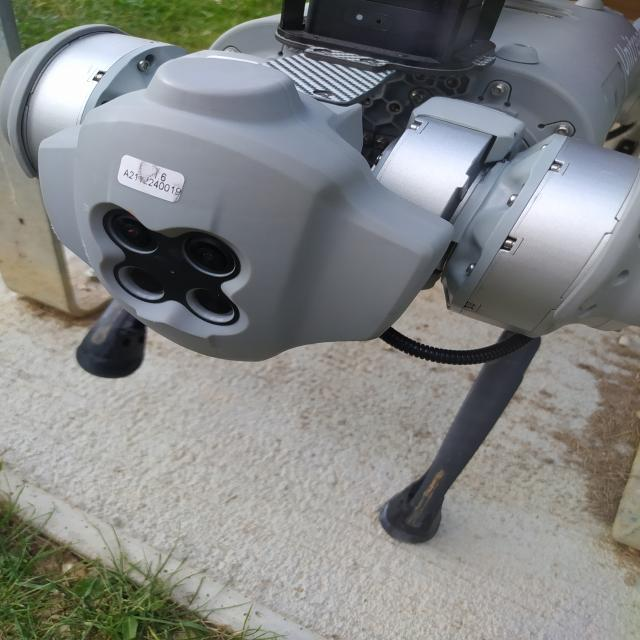unitree-go1-robot: (3, 0, 640, 563)
